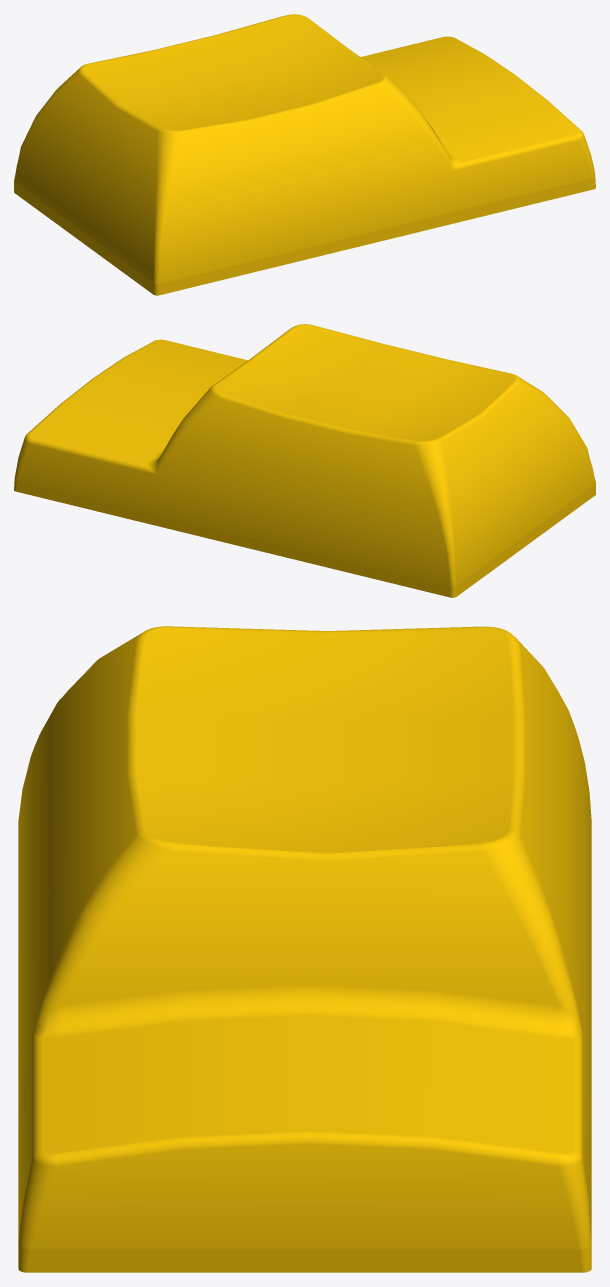
Rendered from KAT_1_5u_r3_stepped.glb.
The picture shows the model from 3 angles, top to bottom: view 1: azimuth 30°, elevation 25°; view 2: azimuth 150°, elevation 25°; view 3: azimuth 270°, elevation 25°; orthographic projection. The views are drawn at different scales.
Parts seen in each view (by area): view 1: Object.091; view 2: Object.091; view 3: Object.091.
Part boxes in pixels (box(x1,y1,x2,y2)): Object.091: box(14, 14, 595, 295); Object.091: box(14, 324, 595, 597); Object.091: box(18, 626, 591, 1272).
Size of the model in its own units: 32.4 by 9.06 by 18.2.
